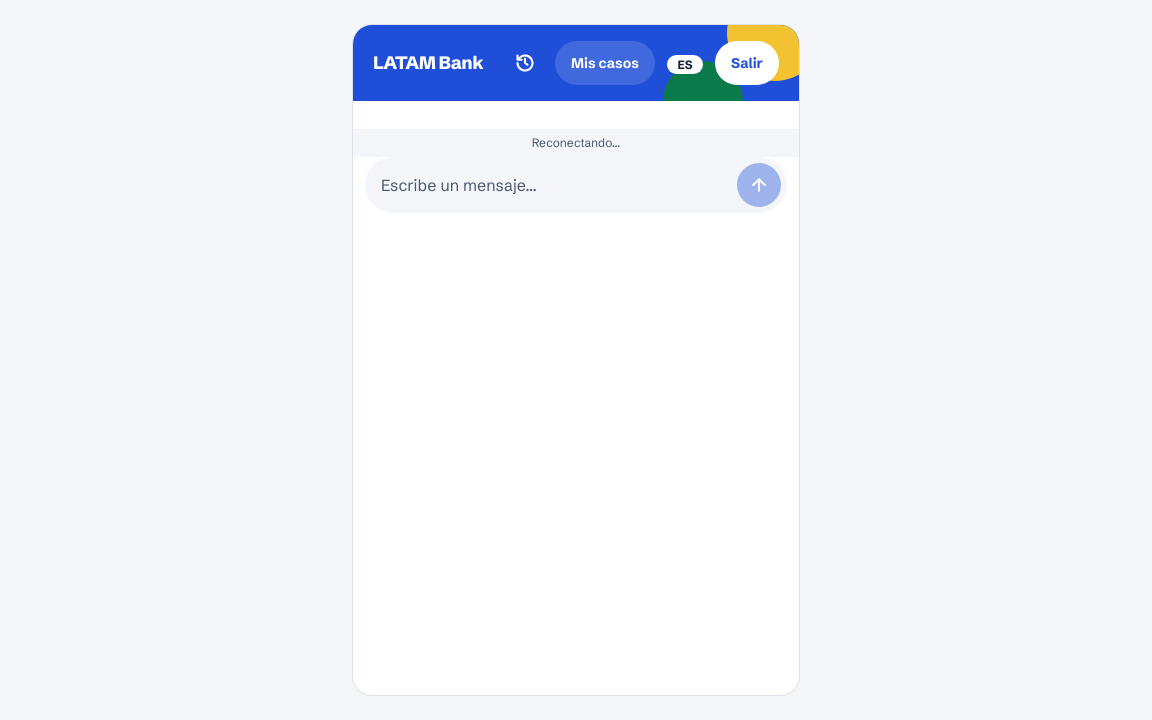
conversation history drawer › lists conversations with previews, a fallback, Actual and Terminada tags
Click the button named "Conversaciones": (525, 63) [503, 41, 547, 85]
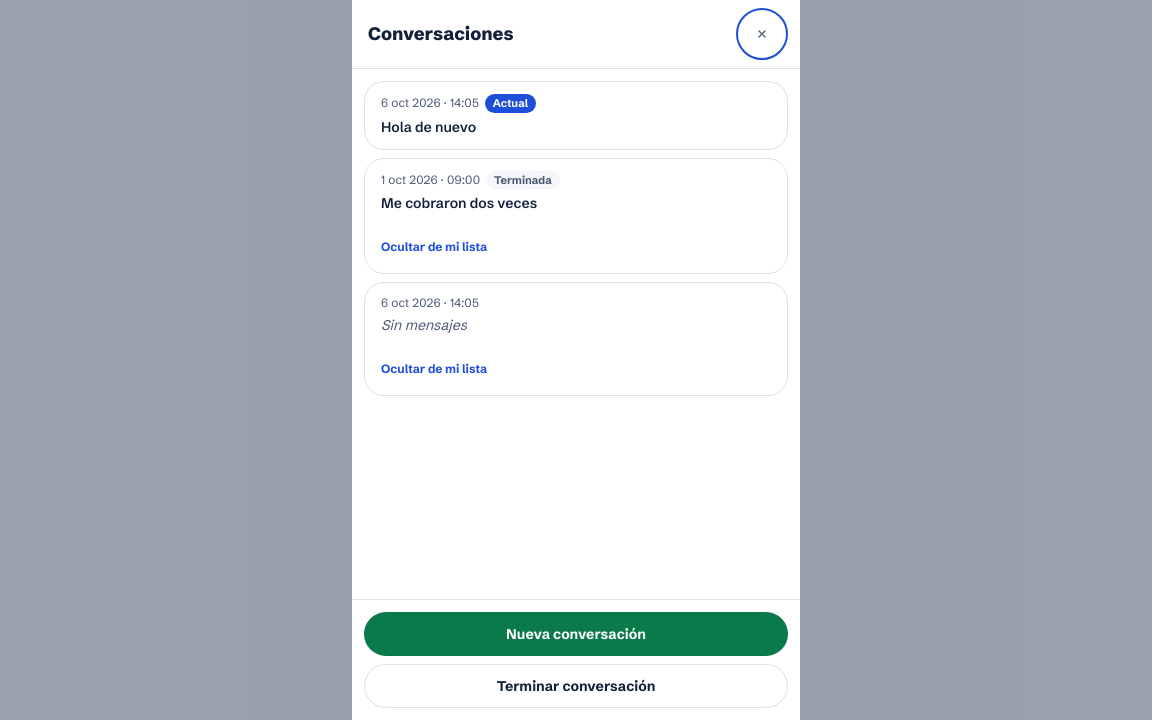
Check: the text "Me cobraron dos veces" is shown, box [381, 193, 537, 213]
Check: the number of list items is 3, box [364, 81, 788, 150]; [364, 158, 788, 274]; [364, 282, 788, 396]
Check: the text "Actual" is shown, box [485, 94, 536, 113]
